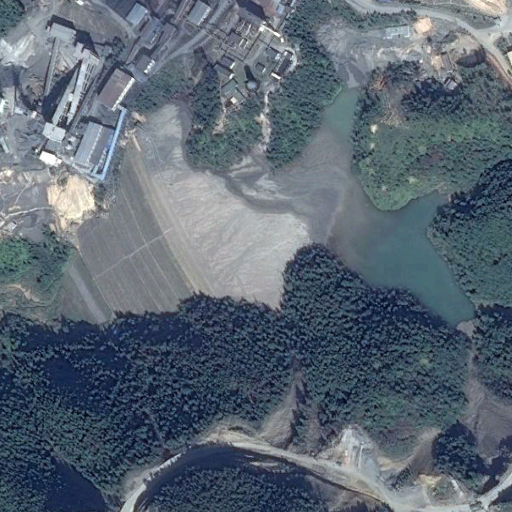tp: (60, 86, 480, 331)
